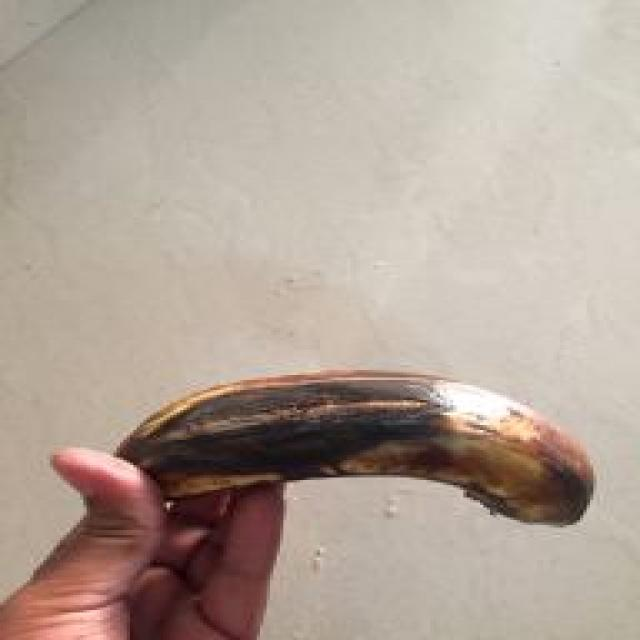Rotten: (45, 328, 612, 568)
